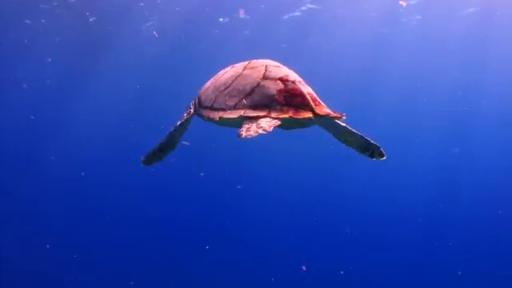Fish: (142, 60, 385, 165)
